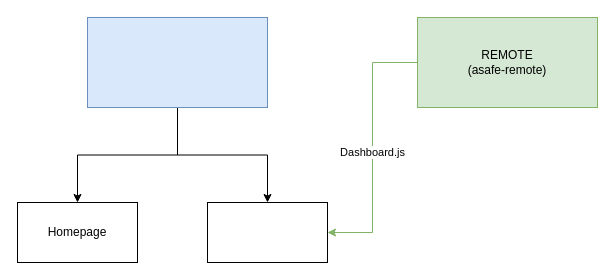
Image size: 615x280. Some labels were removed from this diagram. The shapes that lost their labels are listed below. From the top down, each one's centre as x and y in pixels, then its label:
the point at 177,62: HOST (asafe-host)
the point at 267,232: Dashboard page
